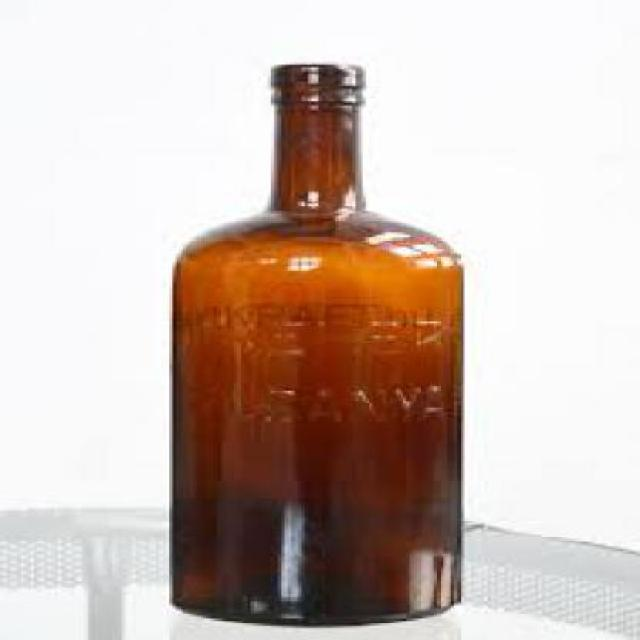kaca: (166, 63, 460, 623)
